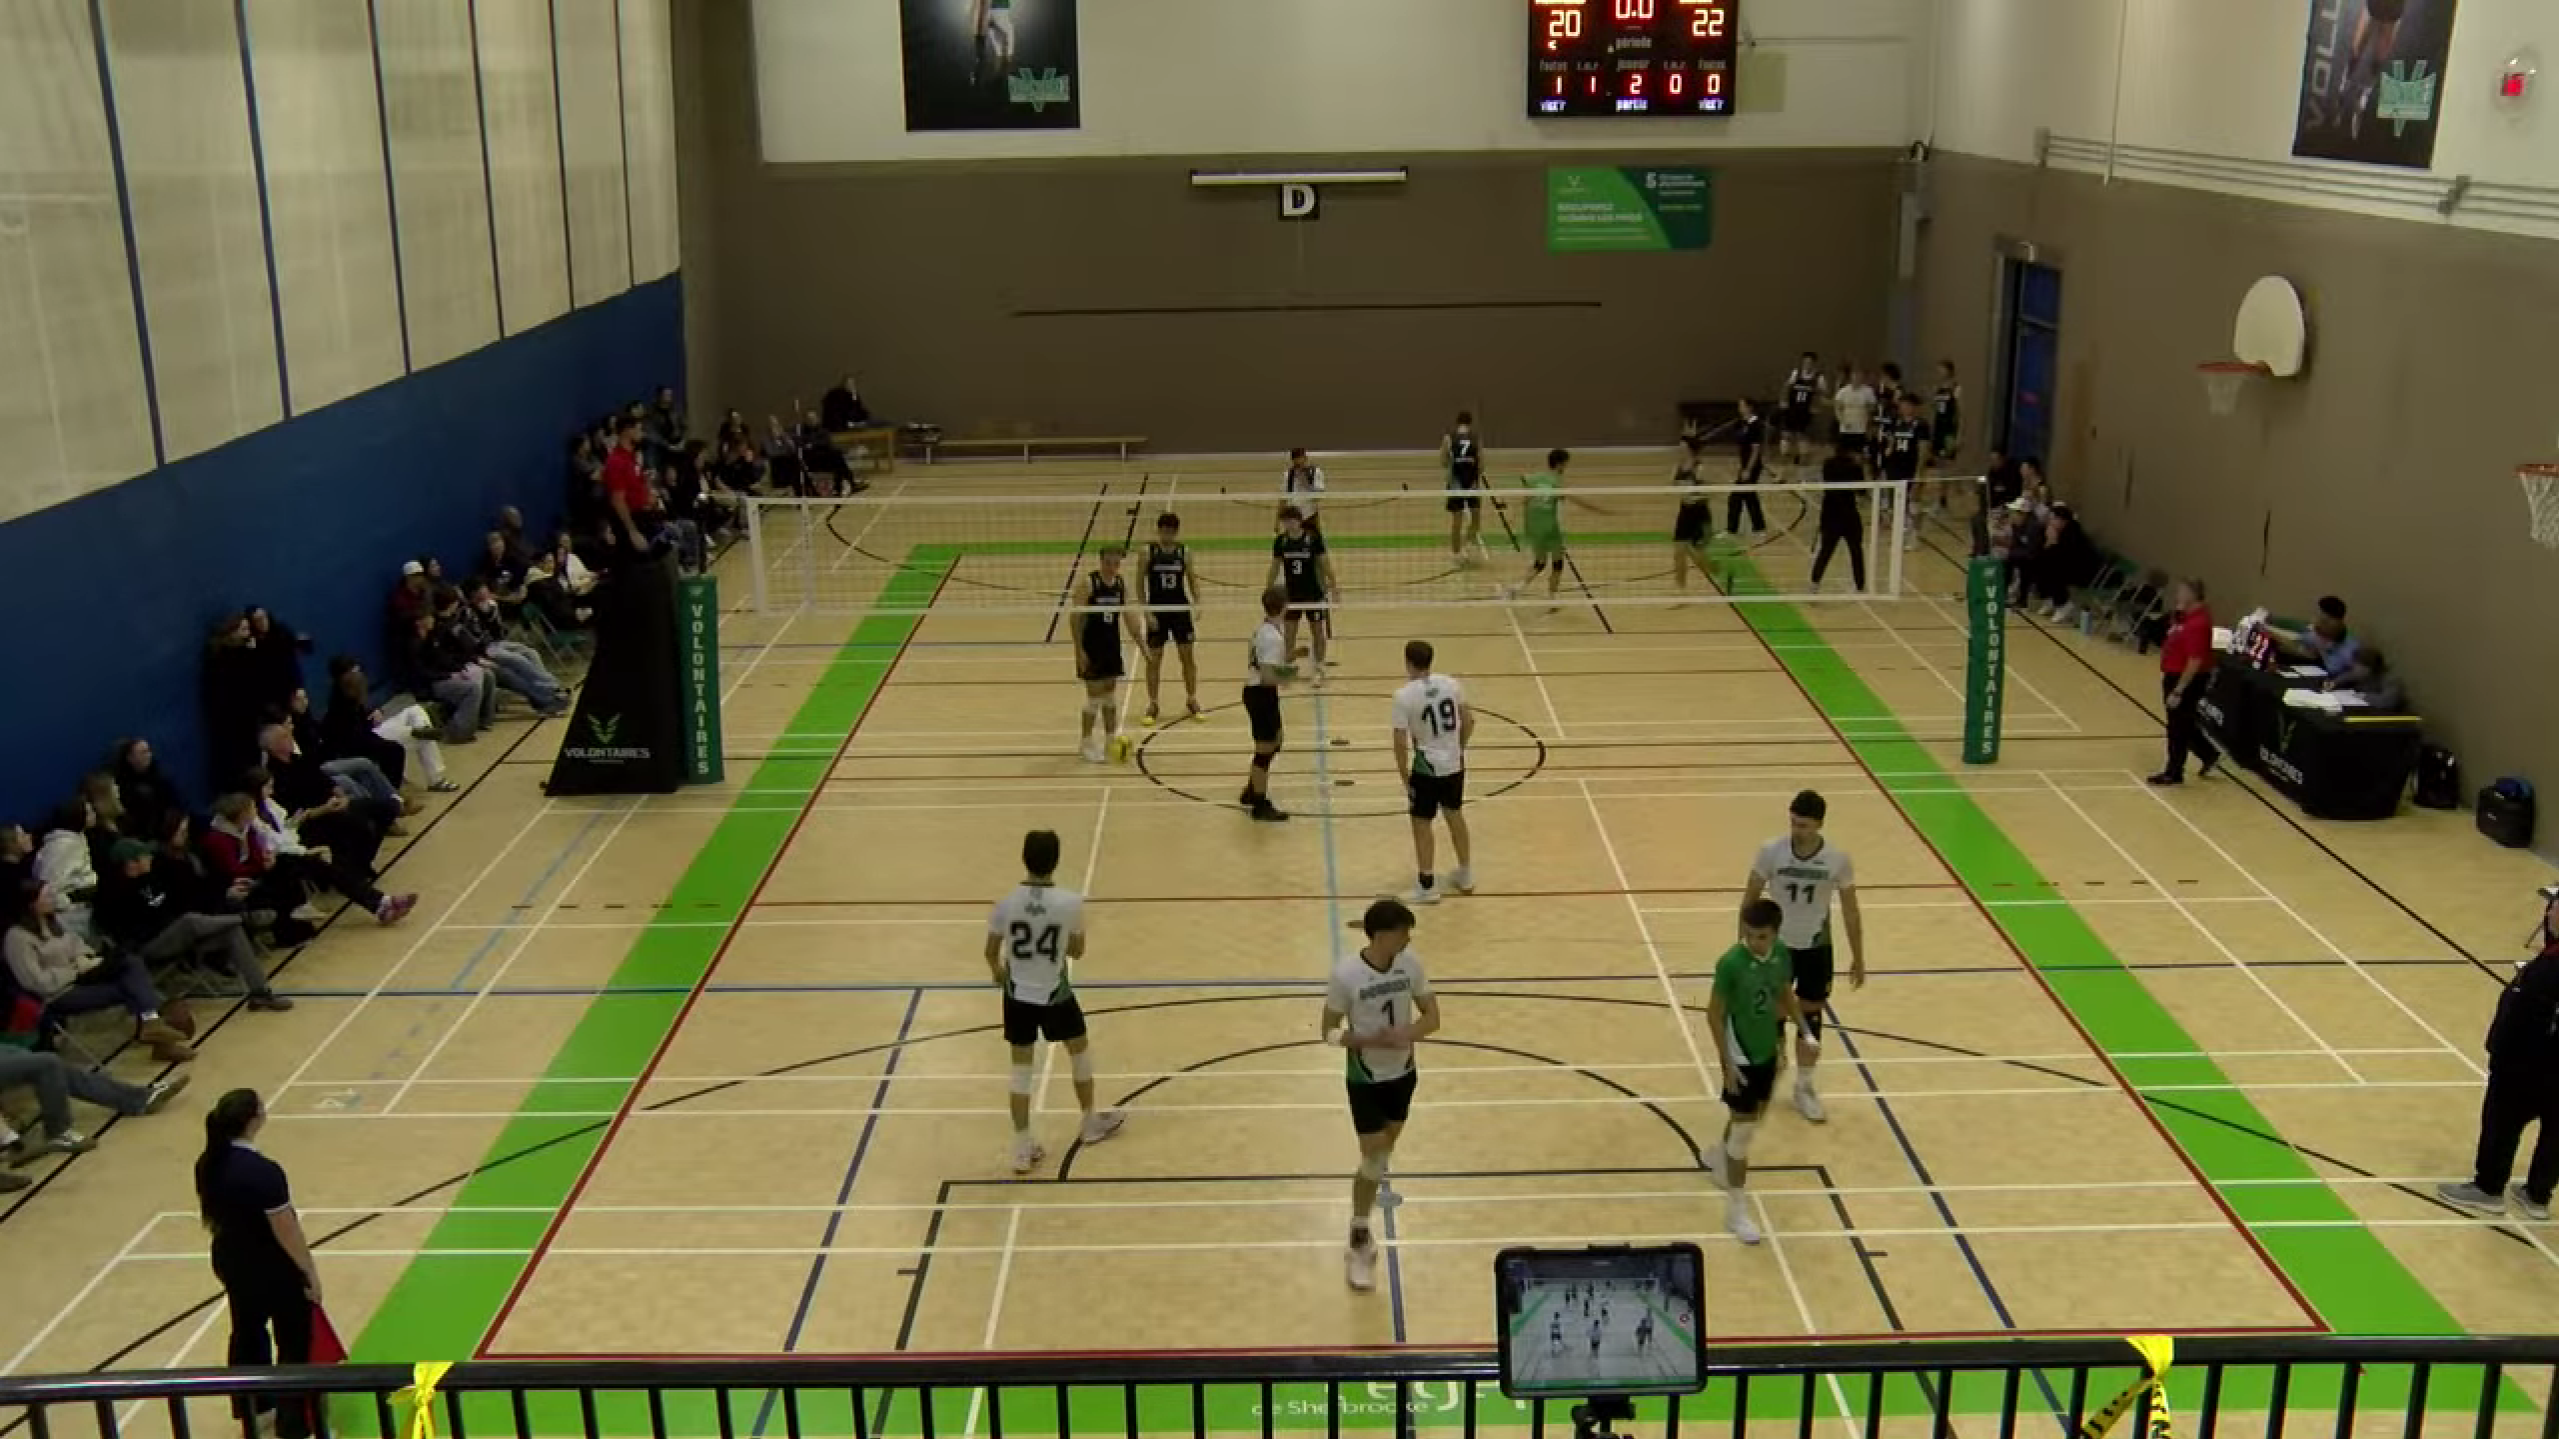Ball: (1106, 733, 1135, 764)
